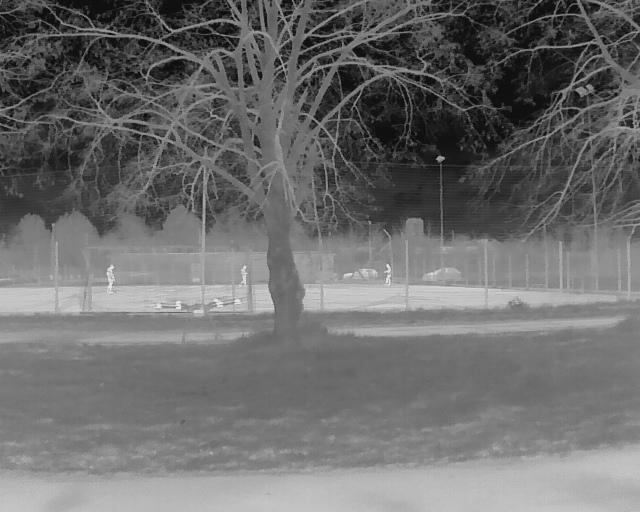drone: (138, 294, 257, 358)
